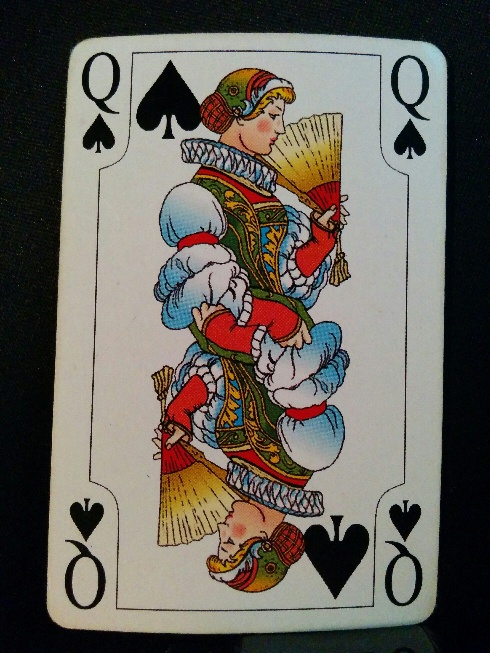Sq: (385, 50, 441, 163), (61, 492, 110, 611), (384, 493, 433, 608), (77, 49, 125, 158)
